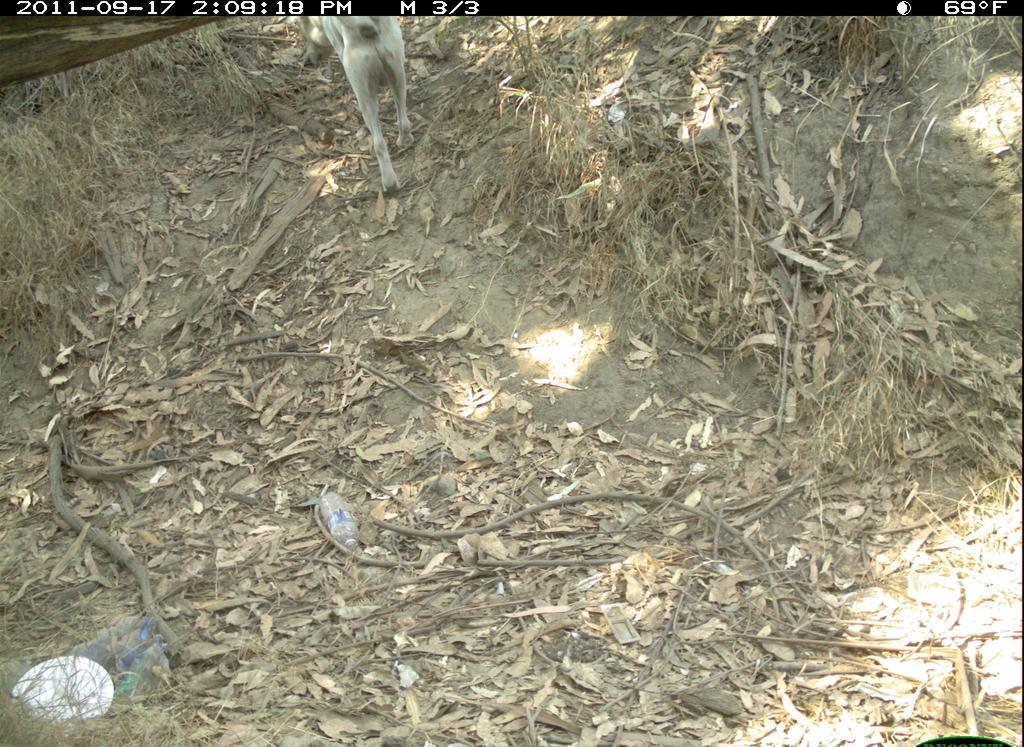dog: (285, 24, 456, 204)
